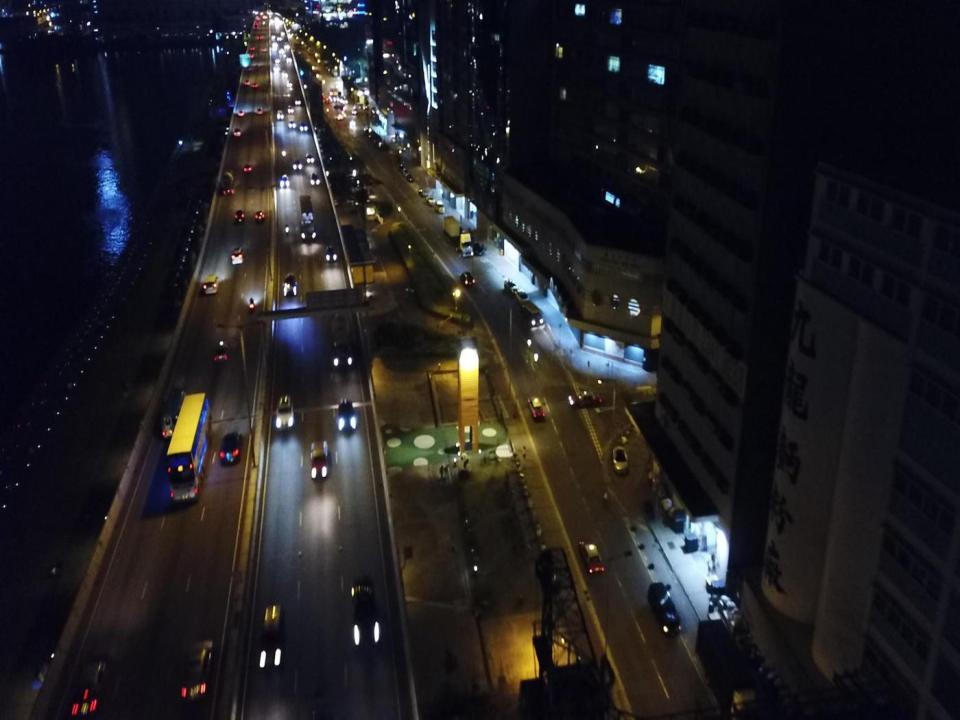bus: (167, 391, 212, 506), (162, 386, 187, 438), (298, 194, 316, 240), (522, 300, 542, 325)
car: (70, 658, 105, 717), (352, 575, 378, 648), (181, 640, 213, 699), (261, 606, 283, 667), (220, 431, 243, 466), (580, 539, 603, 573), (310, 439, 328, 480), (275, 396, 294, 428), (570, 389, 601, 408), (339, 398, 356, 432), (612, 446, 628, 473), (527, 395, 544, 419), (282, 271, 297, 296), (214, 340, 230, 361), (460, 270, 476, 286), (515, 290, 529, 304), (504, 279, 516, 294), (326, 245, 336, 261), (472, 242, 482, 255), (255, 210, 265, 222), (280, 174, 288, 187), (310, 172, 318, 185), (235, 210, 244, 221), (300, 121, 308, 132), (426, 195, 434, 206), (294, 157, 301, 169), (396, 162, 404, 172), (256, 106, 264, 115), (244, 164, 252, 172), (305, 152, 313, 160), (419, 188, 426, 197), (288, 120, 295, 128), (286, 79, 293, 87), (402, 168, 409, 176), (406, 175, 414, 182), (234, 128, 241, 135), (252, 82, 258, 89), (288, 105, 293, 113), (282, 70, 287, 78), (244, 79, 250, 85), (273, 66, 279, 72), (239, 109, 244, 116), (284, 42, 289, 49), (278, 48, 284, 53), (260, 47, 266, 52), (286, 58, 291, 63), (248, 53, 253, 58), (295, 99, 300, 103), (280, 31, 284, 36), (256, 35, 262, 38), (250, 47, 255, 50), (276, 59, 280, 62), (272, 35, 276, 38), (278, 37, 281, 40)
truck: (696, 620, 762, 719), (444, 216, 473, 256), (332, 314, 352, 369), (223, 167, 234, 195)
van: (647, 581, 680, 637), (204, 273, 219, 294), (232, 246, 243, 265), (435, 201, 444, 214), (278, 110, 283, 120)
